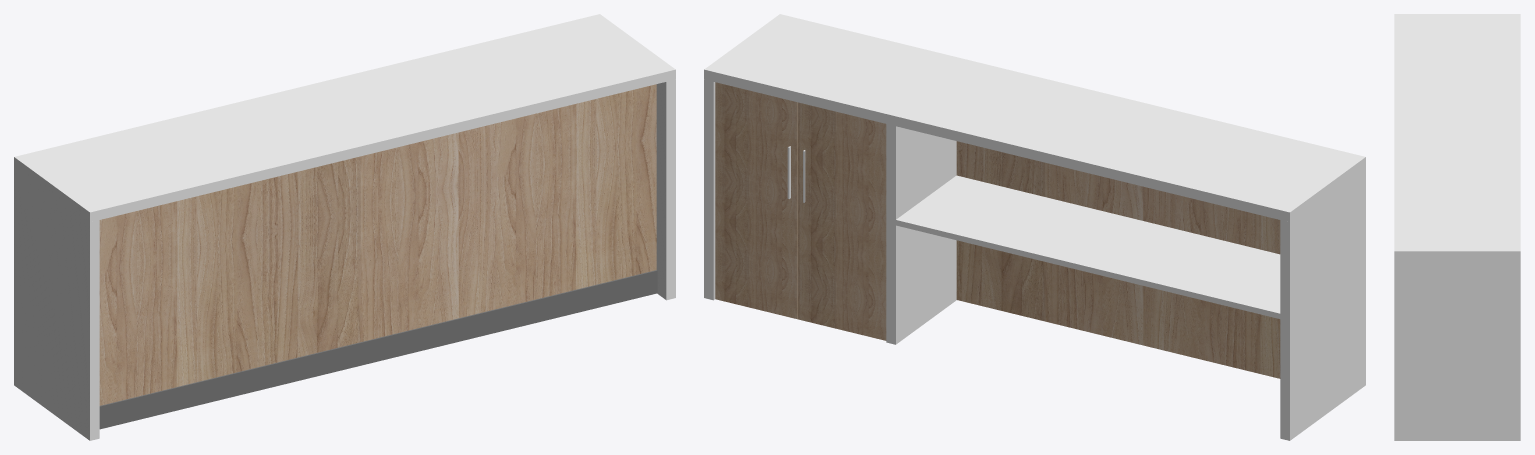
Rendered from Bar.fbx.
The picture shows the model from 3 angles, left to right: view 1: azimuth 30°, elevation 25°; view 2: azimuth 150°, elevation 25°; view 3: azimuth 270°, elevation 25°; orthographic projection. The views are drawn at different scales.
Parts seen in each view (by area): view 1: bar; view 2: bar; view 3: bar.
Boxes of the visible parts, <box> form: bar: <box>14,14,675,440</box>; bar: <box>704,14,1365,440</box>; bar: <box>1394,14,1520,440</box>.
Size of the model in its own units: 272 by 101 by 61.01.
Materials: 3 (2 with a texture image).
